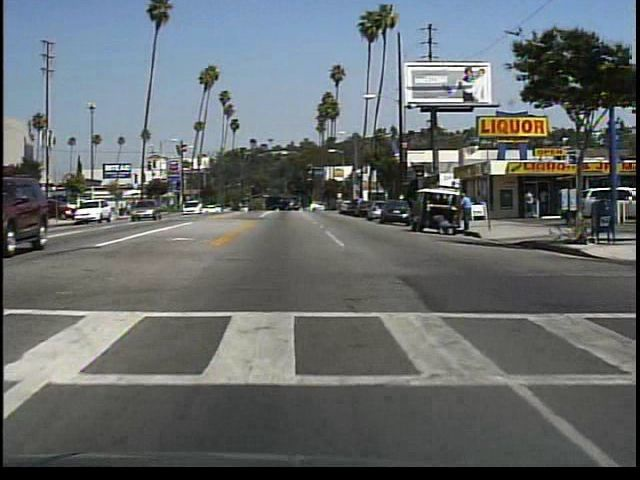person: (457, 189, 477, 236), (1, 193, 30, 225), (522, 187, 536, 224), (432, 213, 452, 237), (539, 187, 550, 218)
